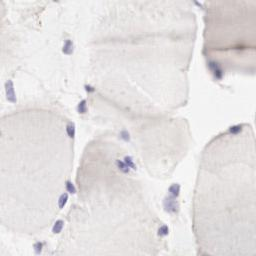nucleus: (164, 197, 180, 214), (4, 79, 16, 101), (116, 160, 131, 174), (62, 39, 75, 55), (167, 183, 182, 196), (65, 179, 78, 193), (52, 219, 65, 233), (124, 156, 137, 170), (66, 121, 76, 139), (76, 100, 89, 113), (58, 193, 69, 208), (158, 224, 171, 236), (121, 128, 130, 143), (33, 242, 42, 255), (229, 125, 243, 132), (85, 86, 95, 93), (194, 1, 202, 9), (210, 62, 217, 70), (217, 71, 223, 78)
